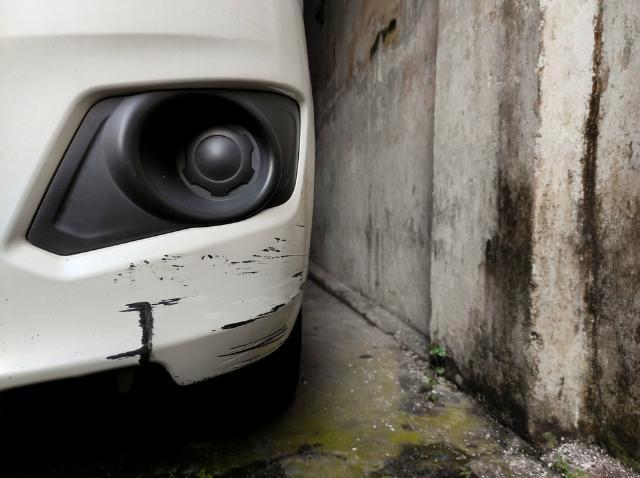scratch: (112, 219, 308, 369)
